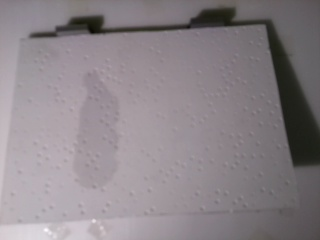Water_detected: (77, 94, 115, 181)
